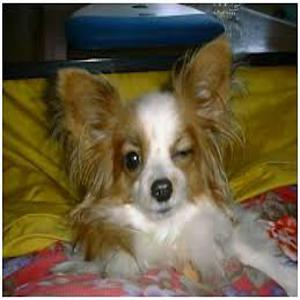yell: (42, 40, 300, 296)
